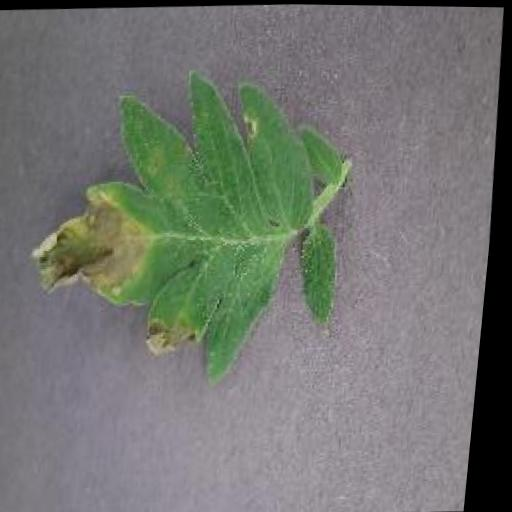Late Blight: (16, 67, 363, 390)
